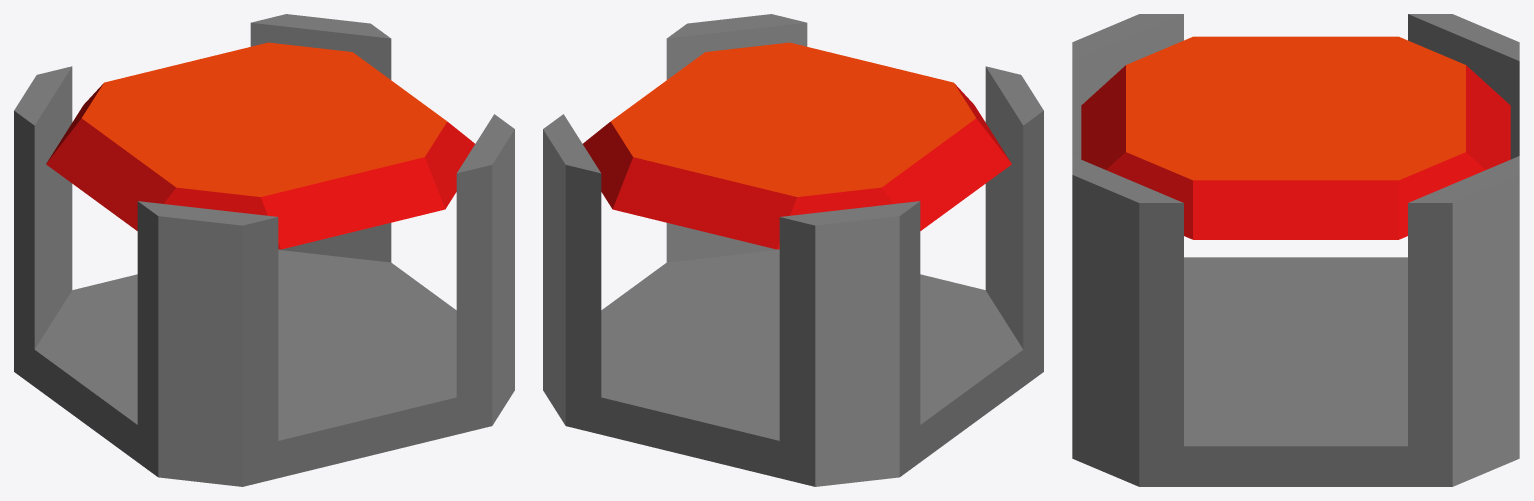
File: windupPress.fbx
3 views of the same model, side by side, from view 1: azimuth 30°, elevation 25°; view 2: azimuth 150°, elevation 25°; view 3: azimuth 270°, elevation 25° (orthographic). The views are drawn at different scales.
Visible parts, largest first — view 1: windupPress_frame, windupPress_trigger; view 2: windupPress_frame, windupPress_trigger; view 3: windupPress_frame, windupPress_trigger.
Part boxes in pixels (x1,y1,x2,y2): windupPress_frame: (14,14,514,486); windupPress_trigger: (46,42,474,249); windupPress_frame: (543,14,1043,486); windupPress_trigger: (583,42,1011,249); windupPress_frame: (1072,14,1519,486); windupPress_trigger: (1081,36,1510,239).
Size of the model in its own units: 500 by 350 by 500.
